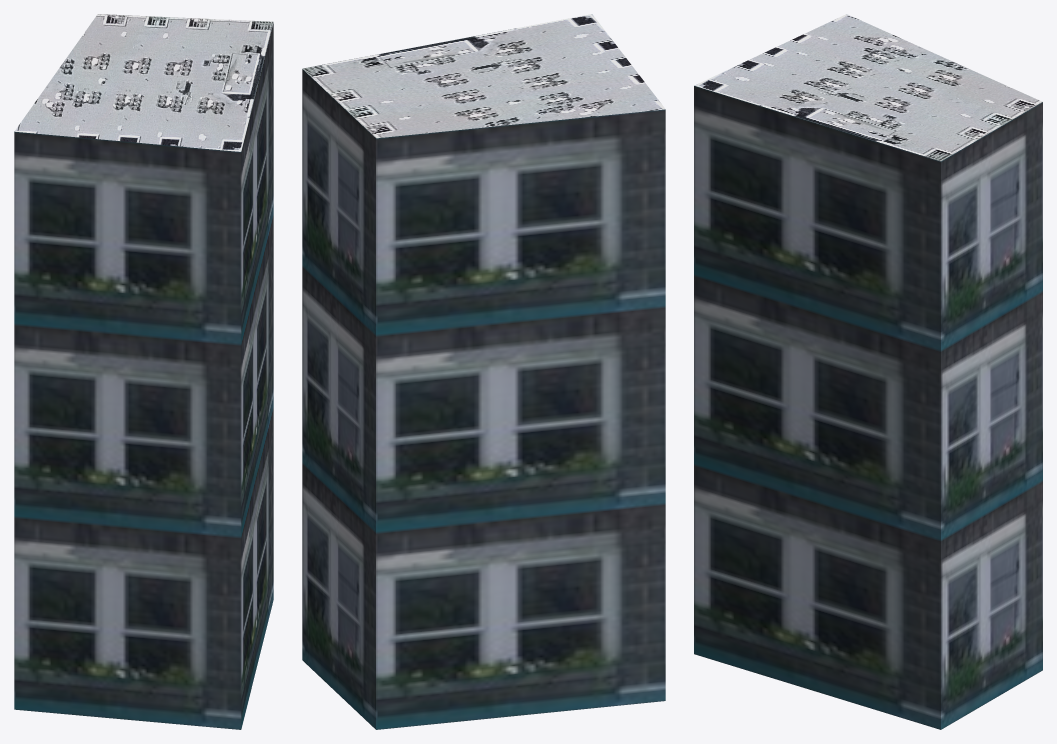
Rendered from ResTex__3155.fbx.
3 views of the same model, side by side, from view 1: azimuth 30°, elevation 25°; view 2: azimuth 150°, elevation 25°; view 3: azimuth 270°, elevation 25° (orthographic). The views are drawn at different scales.
Parts seen in each view (by area): view 1: CityEngineMaterial_11_m, CityEngineMaterial_8_m; view 2: CityEngineMaterial_11_m, CityEngineMaterial_8_m; view 3: CityEngineMaterial_11_m, CityEngineMaterial_8_m.
Part boxes in pixels (x1,y1,x2,y2): CityEngineMaterial_11_m: (14,23,273,729); CityEngineMaterial_8_m: (14,14,273,151); CityEngineMaterial_11_m: (302,69,665,729); CityEngineMaterial_8_m: (302,14,665,138); CityEngineMaterial_11_m: (694,86,1042,729); CityEngineMaterial_8_m: (694,14,1042,161).
Size of the model in its own units: 5.01 by 9 by 5.01.
Materials: 2 (2 with a texture image).
